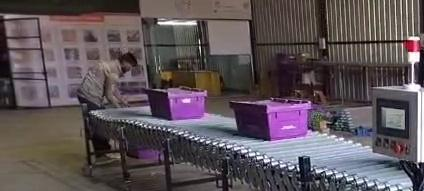box: (230, 98, 311, 140), (145, 87, 206, 120)
